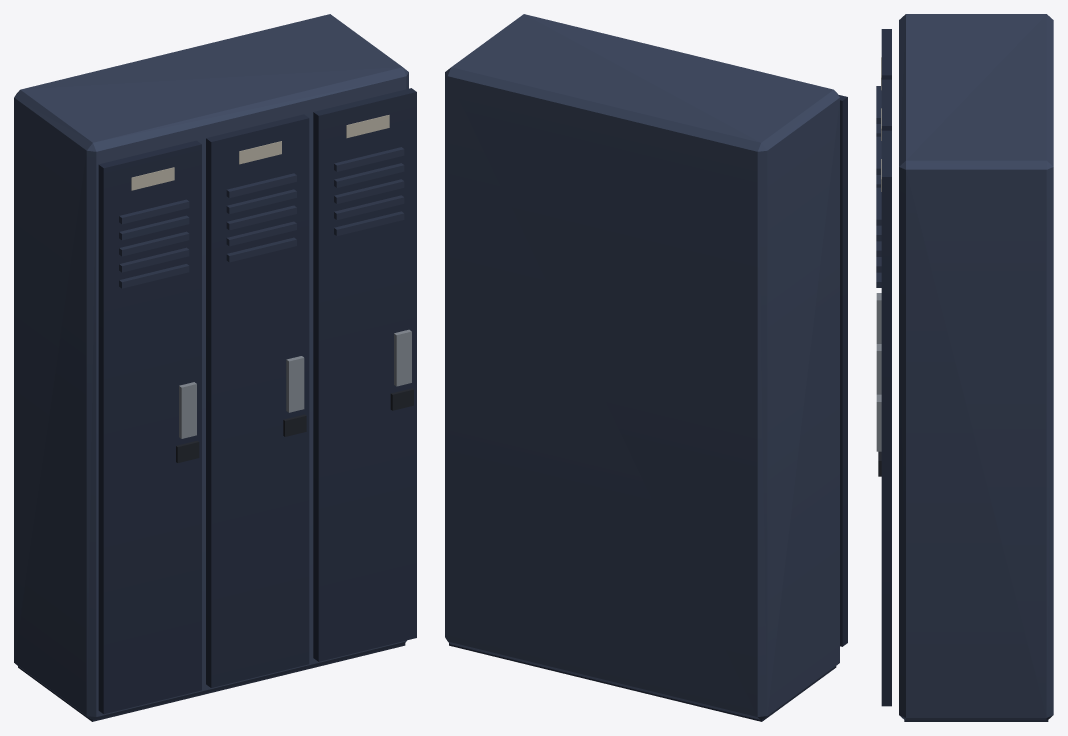
The model's file is steel_locker.glb.
3 views of the same model, side by side, from view 1: azimuth 30°, elevation 25°; view 2: azimuth 150°, elevation 25°; view 3: azimuth 270°, elevation 25° (orthographic). The views are drawn at different scales.
Visible parts, largest first — view 1: steel_locker; view 2: steel_locker; view 3: steel_locker.
Boxes of the visible parts, box(x1,y1,x2,y2) form: steel_locker: box(14, 14, 416, 721); steel_locker: box(445, 14, 847, 721); steel_locker: box(876, 14, 1053, 721).
Bounding box in the file's own units: 1.05 × 1.8 × 0.5159.
